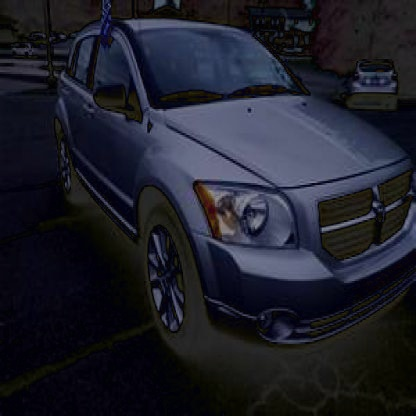Vehicle: (51, 13, 415, 362)
